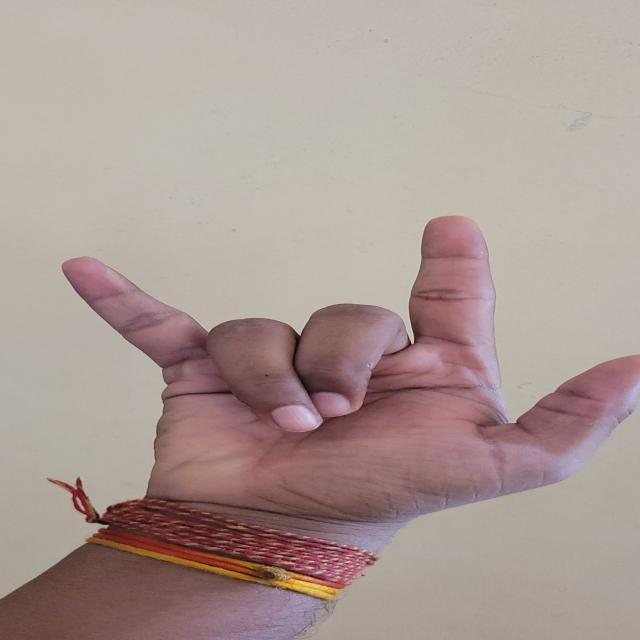i like you: (48, 211, 637, 562)
